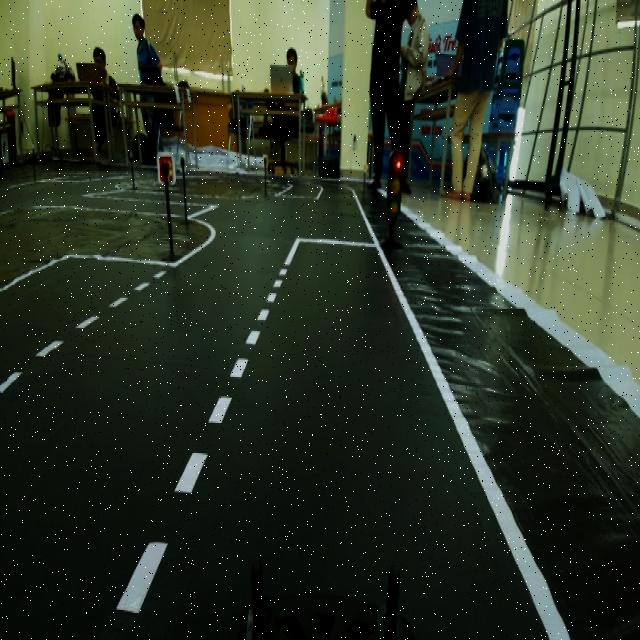trafficlight: (378, 137, 407, 257)
